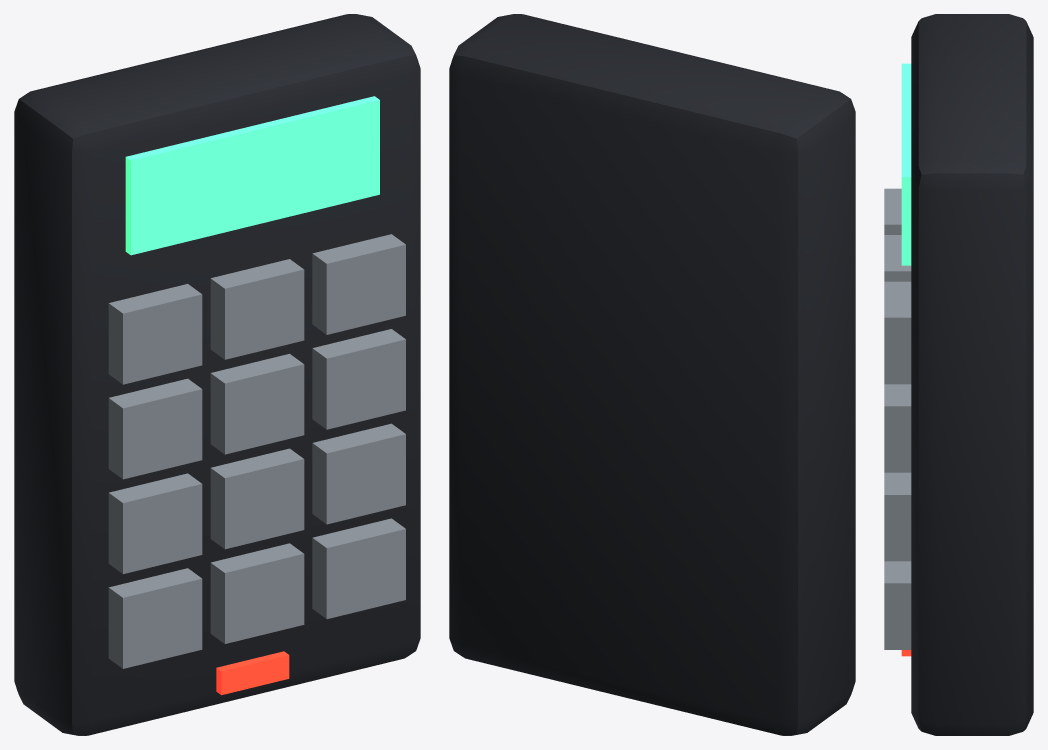
Rendered from keypad.glb.
3 renders of one model, left to right at view 1: azimuth 30°, elevation 25°; view 2: azimuth 150°, elevation 25°; view 3: azimuth 270°, elevation 25°, orthographic. The views are drawn at different scales.
Parts seen in each view (by area): view 1: kp, screen, led; view 2: kp; view 3: kp, screen.
Part boxes in pixels (bbox=[...]): kp: bbox=[14, 14, 420, 735]; screen: bbox=[125, 96, 379, 255]; led: bbox=[216, 651, 289, 695]; kp: bbox=[449, 14, 855, 735]; kp: bbox=[884, 14, 1033, 735]; screen: bbox=[901, 63, 911, 265].
Size of the model in its own units: 0.16 by 0.26 by 0.061.
